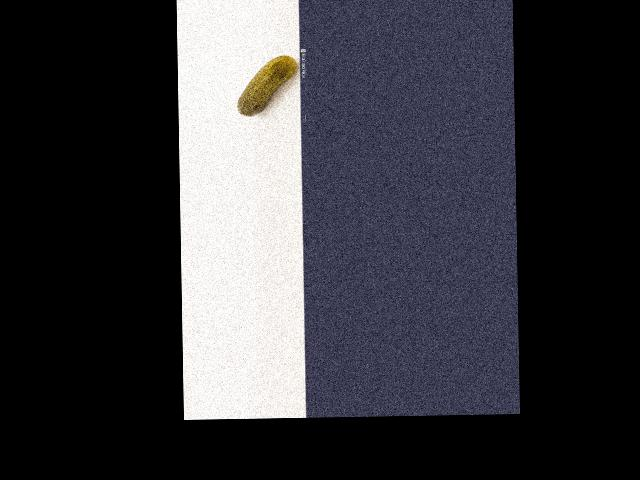cucumber: (237, 55, 297, 117)
